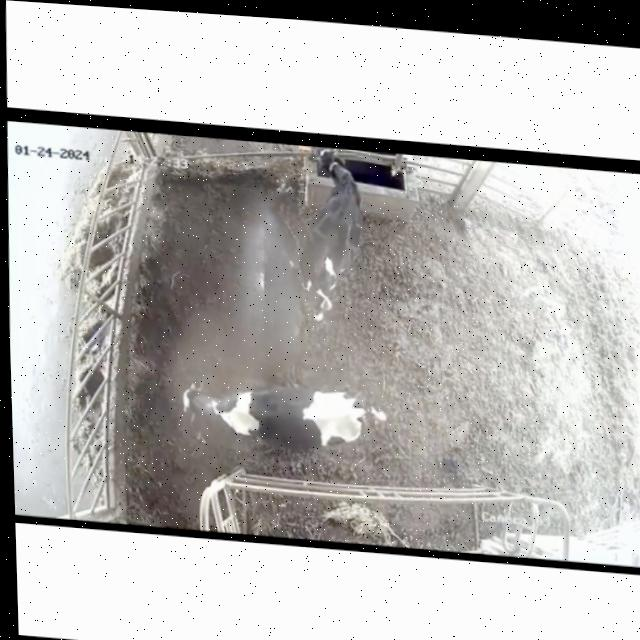drink: (310, 144, 367, 204)
stand: (153, 367, 402, 466)
